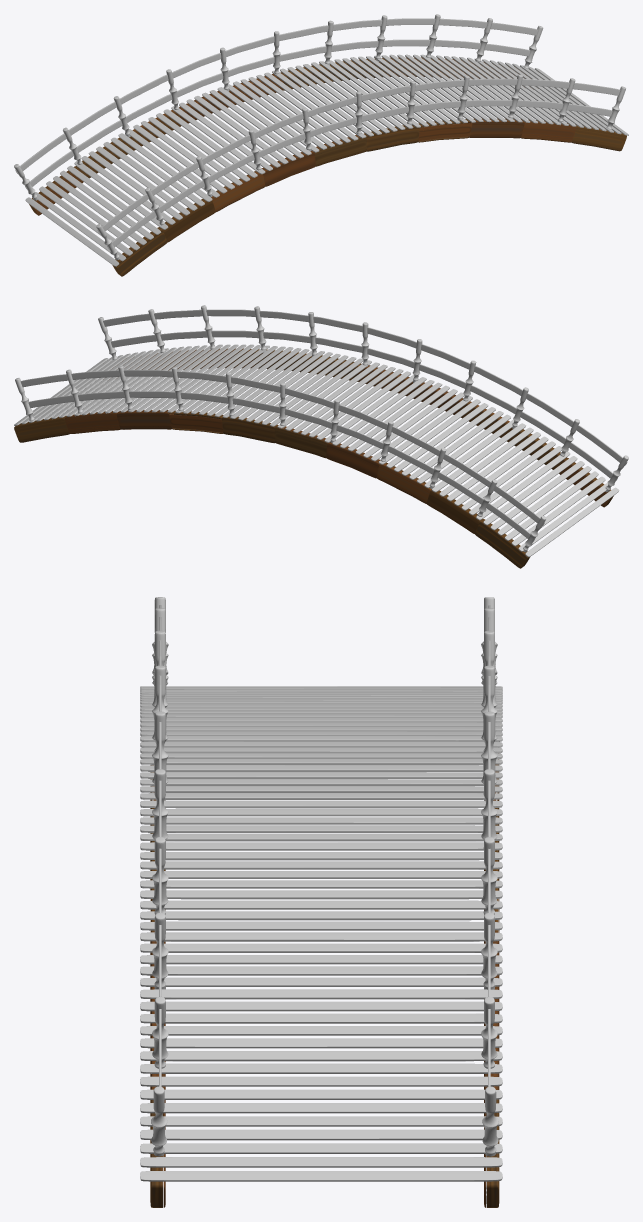
Rendered from ponte.fbx.
3 views of the same model, one above another, from view 1: azimuth 30°, elevation 25°; view 2: azimuth 150°, elevation 25°; view 3: azimuth 270°, elevation 25° (orthographic). The views are drawn at different scales.
Visible parts, largest first — view 1: tabuas Ponte, serca Ponte, sutentasao Ponte; view 2: tabuas Ponte, serca Ponte, sutentasao Ponte; view 3: tabuas Ponte, serca Ponte, sutentasao Ponte.
Boxes of the visible parts, x1=… form: tabuas Ponte: x1=25, y1=54, x2=628, y2=266; serca Ponte: x1=14, y1=14, x2=625, y2=260; sutentasao Ponte: x1=29, y1=57, x2=626, y2=276; tabuas Ponte: x1=14, y1=344, x2=619, y2=557; serca Ponte: x1=15, y1=305, x2=628, y2=552; sutentasao Ponte: x1=14, y1=348, x2=613, y2=568; tabuas Ponte: x1=140, y1=686, x2=502, y2=1181; serca Ponte: x1=151, y1=597, x2=498, y2=1156; sutentasao Ponte: x1=150, y1=759, x2=499, y2=1207.
Bounding box in the file's own units: 8365 × 1886 × 2482.
